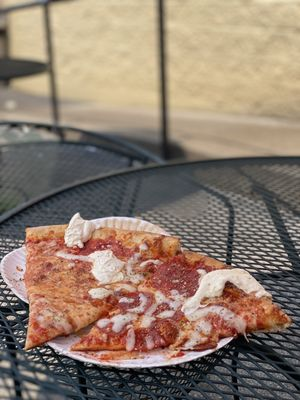curry: (0, 143, 300, 400)
sandwich: (15, 214, 297, 363)
